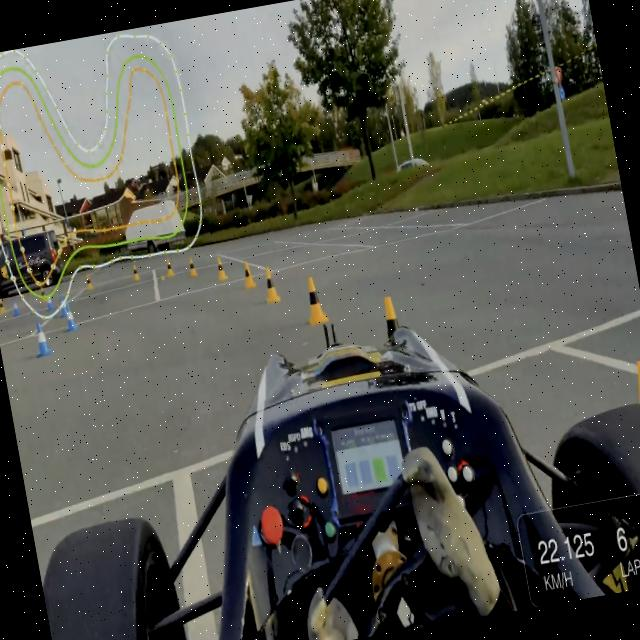blue_cone: (31, 317, 54, 359), (62, 300, 80, 333), (58, 292, 70, 318), (44, 288, 56, 310), (10, 298, 21, 318), (6, 379, 12, 403)
yellow_cone: (378, 292, 414, 372), (298, 270, 330, 332), (623, 344, 640, 421), (260, 264, 281, 306), (239, 256, 257, 290), (212, 252, 230, 284), (184, 252, 199, 278), (162, 255, 175, 278), (82, 272, 94, 294), (130, 262, 142, 282), (38, 284, 48, 301), (0, 294, 6, 314)
